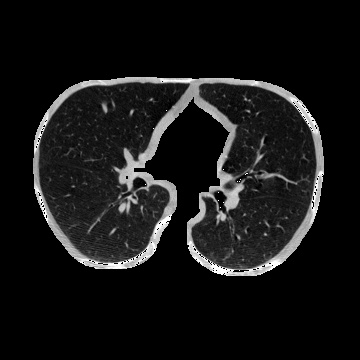PN: (100, 102, 108, 110)
